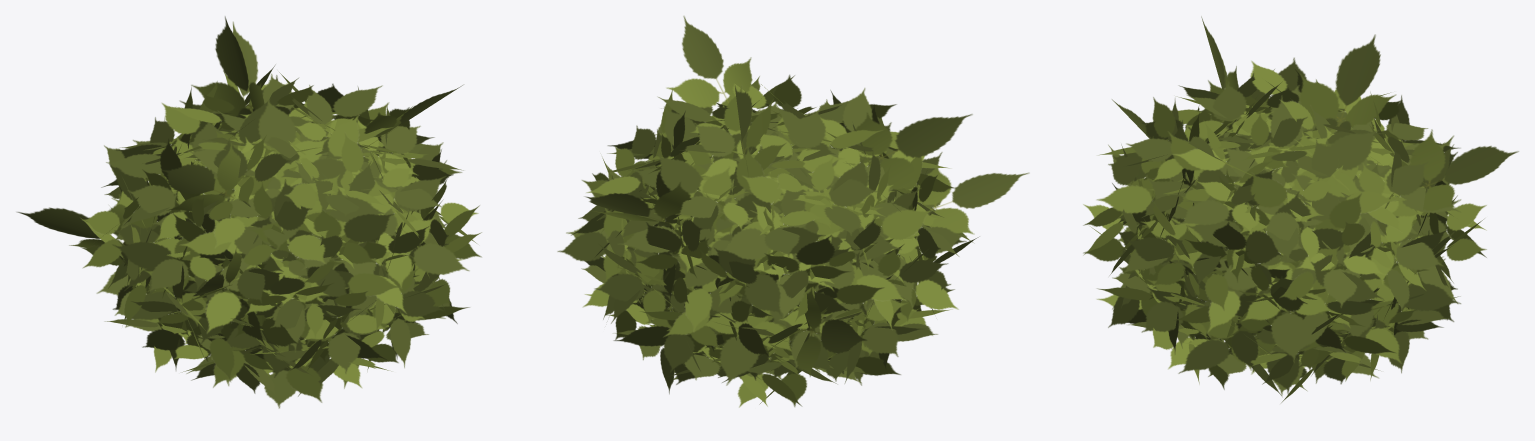
Rendered from Blackberry_Bush_2a.glb.
3 views of the same model, side by side, from view 1: azimuth 30°, elevation 25°; view 2: azimuth 150°, elevation 25°; view 3: azimuth 270°, elevation 25° (orthographic).
Parts seen in each view (by area): view 1: Blackberry_Bush_2a; view 2: Blackberry_Bush_2a; view 3: Blackberry_Bush_2a.
Boxes of the visible parts, box(x1,y1,x2,y2) form: Blackberry_Bush_2a: box(17, 16, 481, 408); Blackberry_Bush_2a: box(557, 16, 1029, 407); Blackberry_Bush_2a: box(1083, 16, 1518, 402).
Bounding box in the file's own units: 1.17 × 1.01 × 1.17.
Materials: 1 (1 with a texture image).
